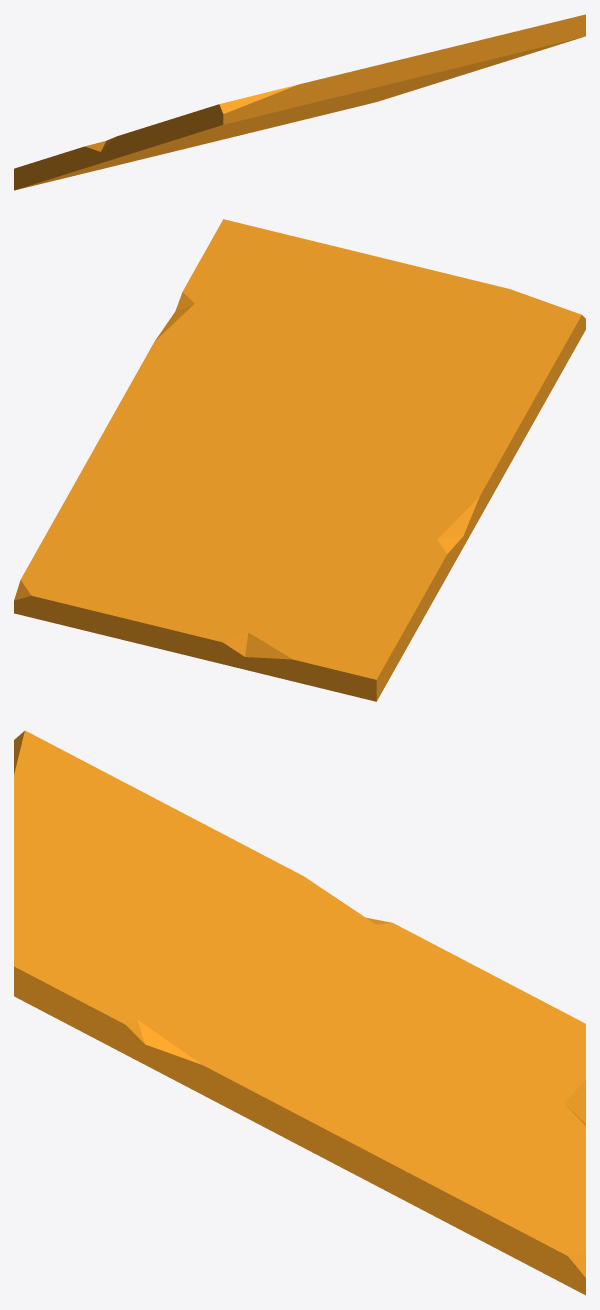
File: SM_Buildings_RoofAngled_2x2_01P.fbx
3 renders of one model, top to bottom at view 1: azimuth 30°, elevation 25°; view 2: azimuth 150°, elevation 25°; view 3: azimuth 270°, elevation 25°, orthographic. The views are drawn at different scales.
Parts seen in each view (by area): view 1: SM_Buildings_RoofAngled_2x2_01P; view 2: SM_Buildings_RoofAngled_2x2_01P; view 3: SM_Buildings_RoofAngled_2x2_01P.
Part boxes in pixels (x1,y1,x2,y2): SM_Buildings_RoofAngled_2x2_01P: [14, 14, 585, 190]; SM_Buildings_RoofAngled_2x2_01P: [14, 219, 585, 701]; SM_Buildings_RoofAngled_2x2_01P: [14, 730, 585, 1295].
Size of the model in its own units: 200 by 127 by 200.
